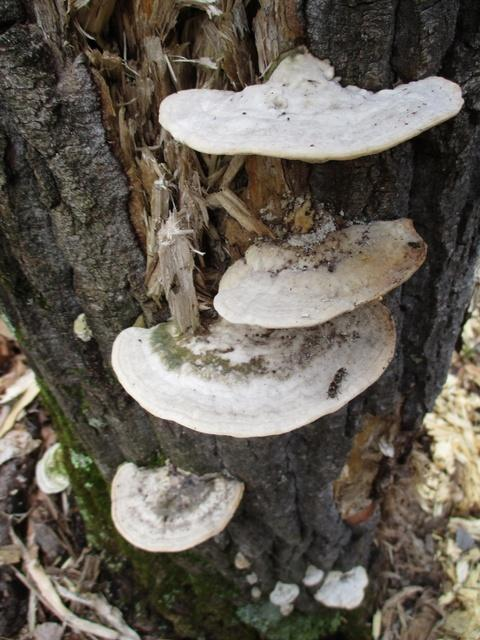Non-edible Mushroom: (68, 187, 438, 601), (156, 46, 465, 164)
